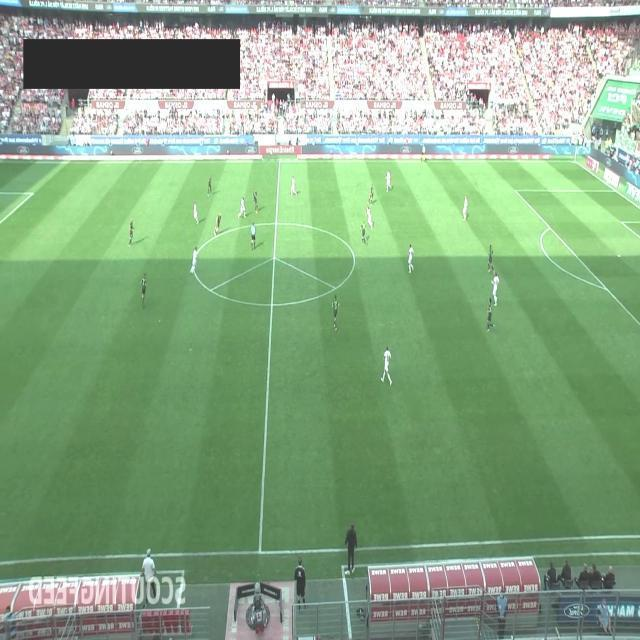Corner: (574, 120, 580, 164)
Referee: (250, 221, 256, 250), (421, 144, 426, 162)
TEAM 1: (380, 346, 392, 386), (492, 270, 499, 306), (190, 246, 198, 274), (462, 195, 470, 221), (365, 205, 373, 229), (408, 243, 414, 273), (238, 196, 246, 218), (290, 176, 298, 197), (385, 168, 392, 192), (193, 201, 199, 225)
TEAM 2: (332, 293, 339, 332), (140, 273, 147, 309), (486, 302, 494, 332), (214, 212, 222, 237), (488, 244, 494, 274), (128, 218, 134, 246), (253, 188, 259, 214), (361, 220, 367, 244), (368, 183, 374, 203), (207, 176, 212, 196)
